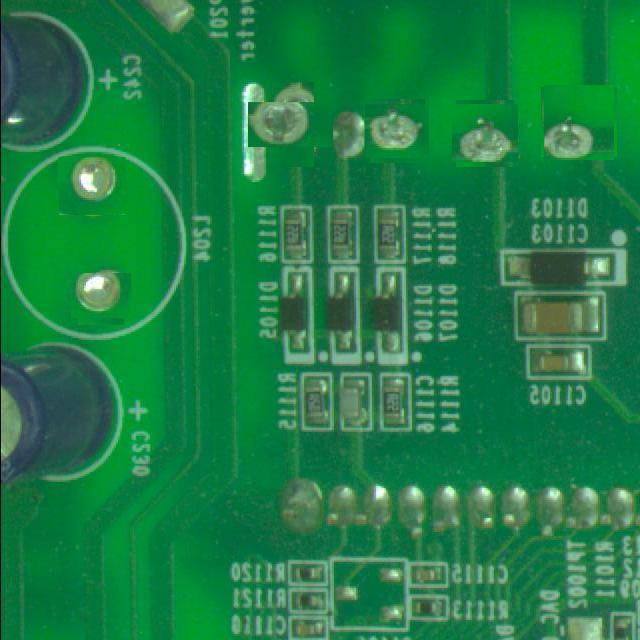lack_of_part: (542, 85, 616, 158), (258, 92, 324, 157), (58, 156, 125, 215), (454, 102, 516, 165), (368, 101, 427, 161), (74, 268, 128, 322)
